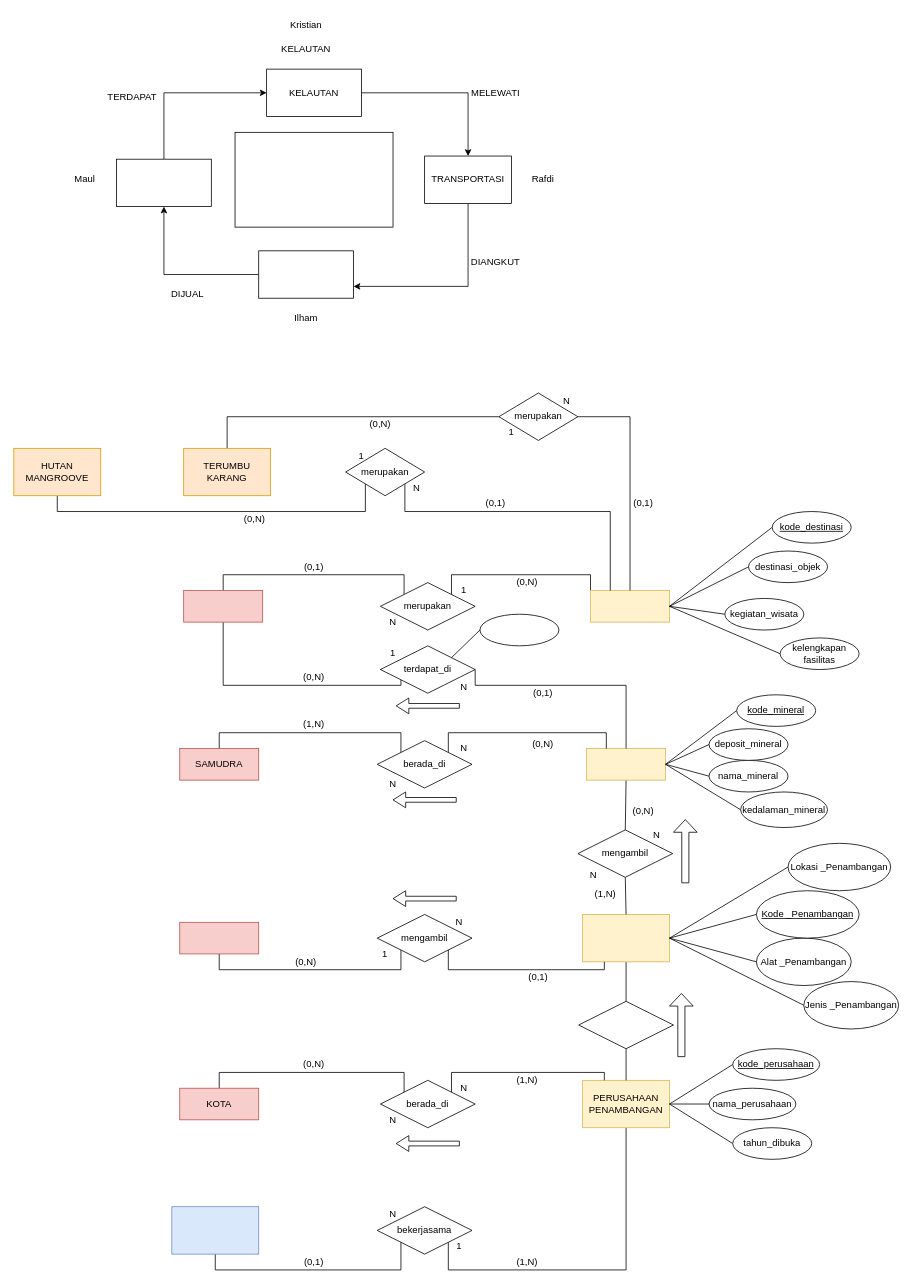
Some shapes in this 912 by 1285 pixel diagram are drawn without their labels. The centre of each missing label's shape, as x and y in pixels:
BUDIDAYA: point 306,274
GAS ALAM: point 219,938
hasil_mineral: point 519,629
KEMARITIMAN: point 313,179
melakukan: point 625,1025
MINERAL: point 626,764
OBJEK WISATA: point 630,606
PANTAI: point 223,606
PENAMBANGAN BAWAH LAUT: point 626,938
PERUSAHAAN PELAYARAN: point 215,1230
WISATA: point 163,182
